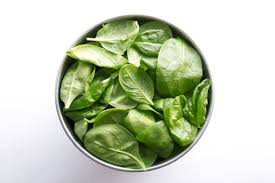spinach: (59, 26, 200, 156)
